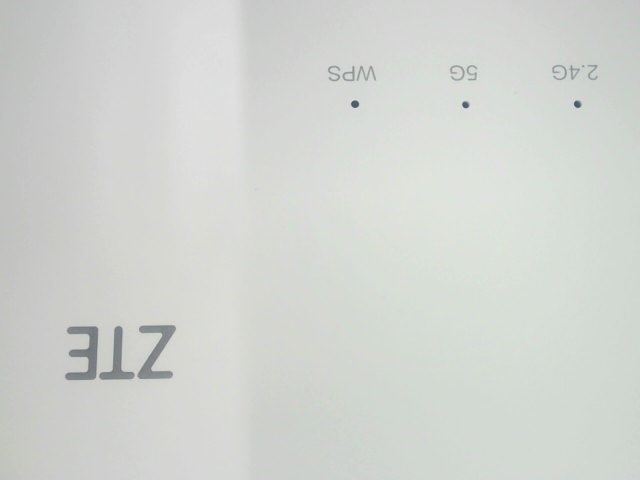AO_ZTESmall: (47, 301, 189, 395)
